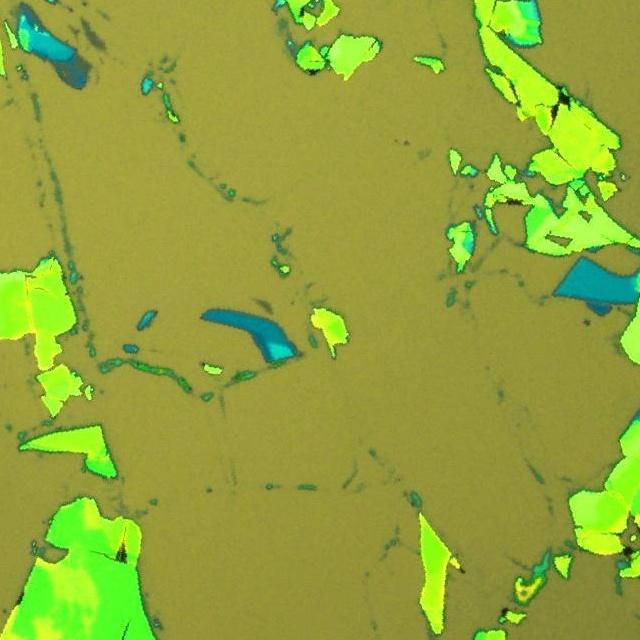monolayer-eWW4: (80, 17, 107, 53), (250, 297, 274, 315), (76, 54, 91, 72)
